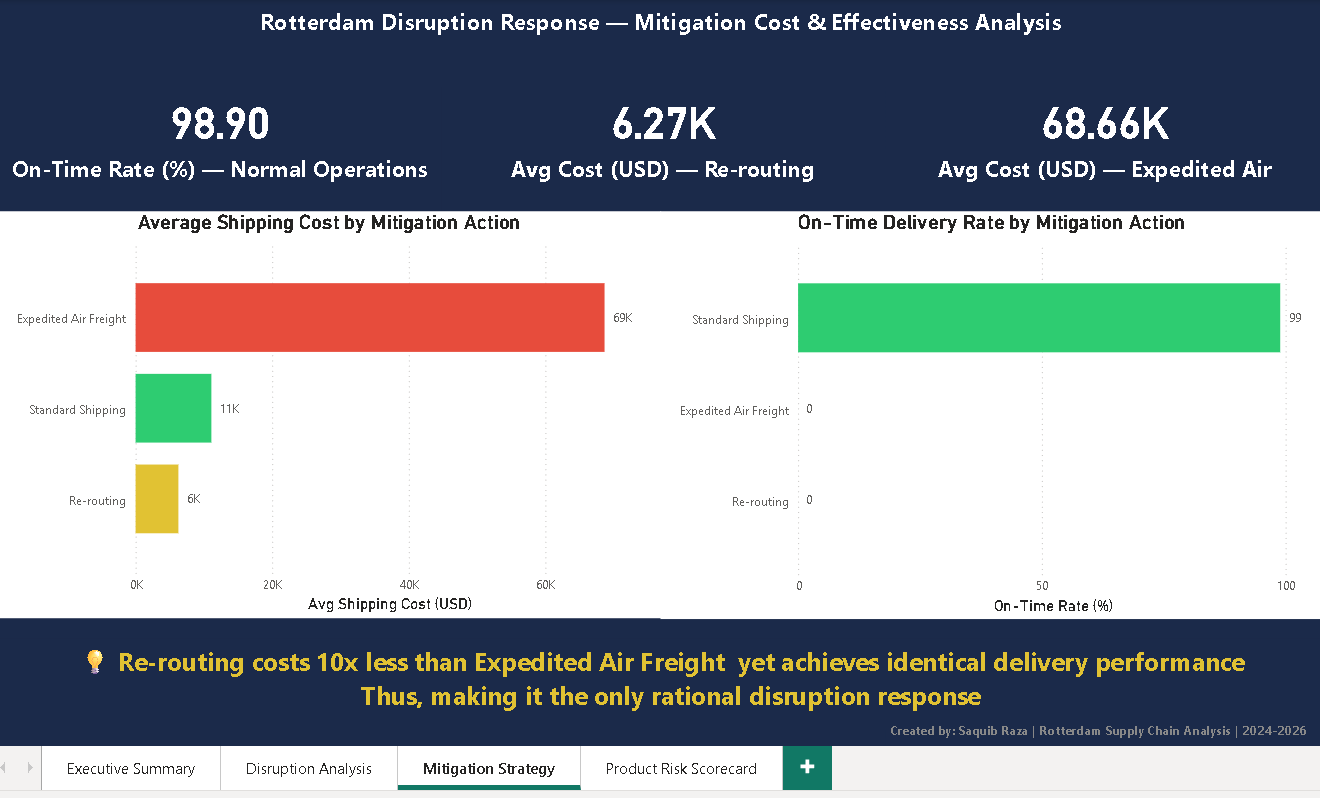

The dashboard page shown, as its layout file describes it:
{"tool":"powerbi","page":{"name":"Mitigation Strategy","canvas":[1280,720],"ordinal":2},"visuals":[{"type":"textbox","box":[0,0,1280,47.5],"z":0},{"type":"card","fields":{"Values":["Avg(mitigation_effectiveness.OnTime_Percentage)"]},"box":[0,53.8,428.8,150],"z":1000},{"type":"card","fields":{"Values":["Avg(mitigation_effectiveness.Avg_Cost_USD)"]},"box":[428.8,53.8,427.5,150],"z":2000},{"type":"card","fields":{"Values":["Avg(mitigation_effectiveness.Avg_Cost_USD)"]},"box":[856.2,53.8,423.8,150],"z":3000},{"type":"clusteredBarChart","title":"Average Shipping Cost by Mitigation Action","fields":{"Category":["mitigation_effectiveness.Mitigation_Action_Taken"],"Y":["Sum(mitigation_effectiveness.Avg_Cost_USD)"]},"box":[0,203.8,640,392.5],"z":4000},{"type":"clusteredBarChart","title":"On-Time Delivery Rate by Mitigation Action","fields":{"Category":["mitigation_effectiveness.Mitigation_Action_Taken"],"Y":["Sum(mitigation_effectiveness.OnTime_Percentage)"]},"box":[640,203.8,640,393.8],"z":5000},{"type":"textbox","box":[0,616.2,1280,103.8],"z":6000},{"type":"textbox","box":[856.6,690.1,422.3,30.2],"z":7000}]}

Visuals, with their boxes on the page's 1280x720 design canvas (x1, y1, x2, y2). These are canvas units, not pixel positions in the 1320x798 screenshot, which may show the page scaled, cropped or inside an application window:
textbox: 0,0,1280,48
card - Avg(mitigation_effectiveness.OnTime_Percentage): 0,54,429,204
card - Avg(mitigation_effectiveness.Avg_Cost_USD): 429,54,856,204
card - Avg(mitigation_effectiveness.Avg_Cost_USD): 856,54,1280,204
"Average Shipping Cost by Mitigation Action" clusteredBarChart: 0,204,640,596
"On-Time Delivery Rate by Mitigation Action" clusteredBarChart: 640,204,1280,598
textbox: 0,616,1280,720
textbox: 857,690,1279,720
